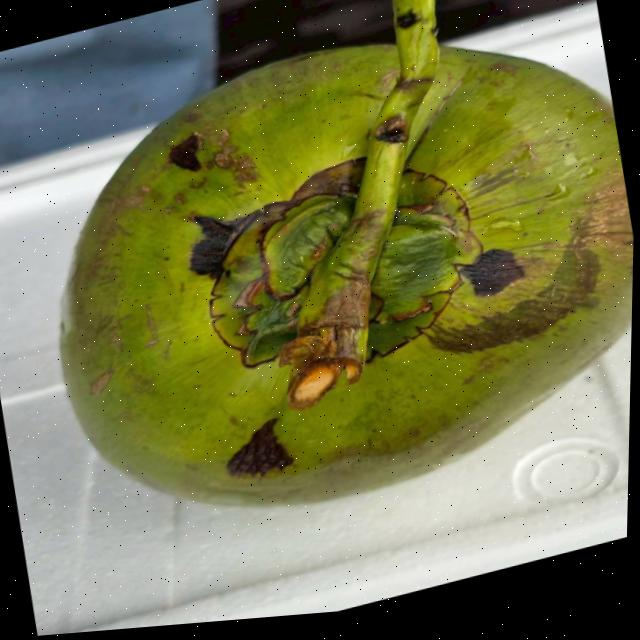coco_2.0: (132, 95, 551, 439)
